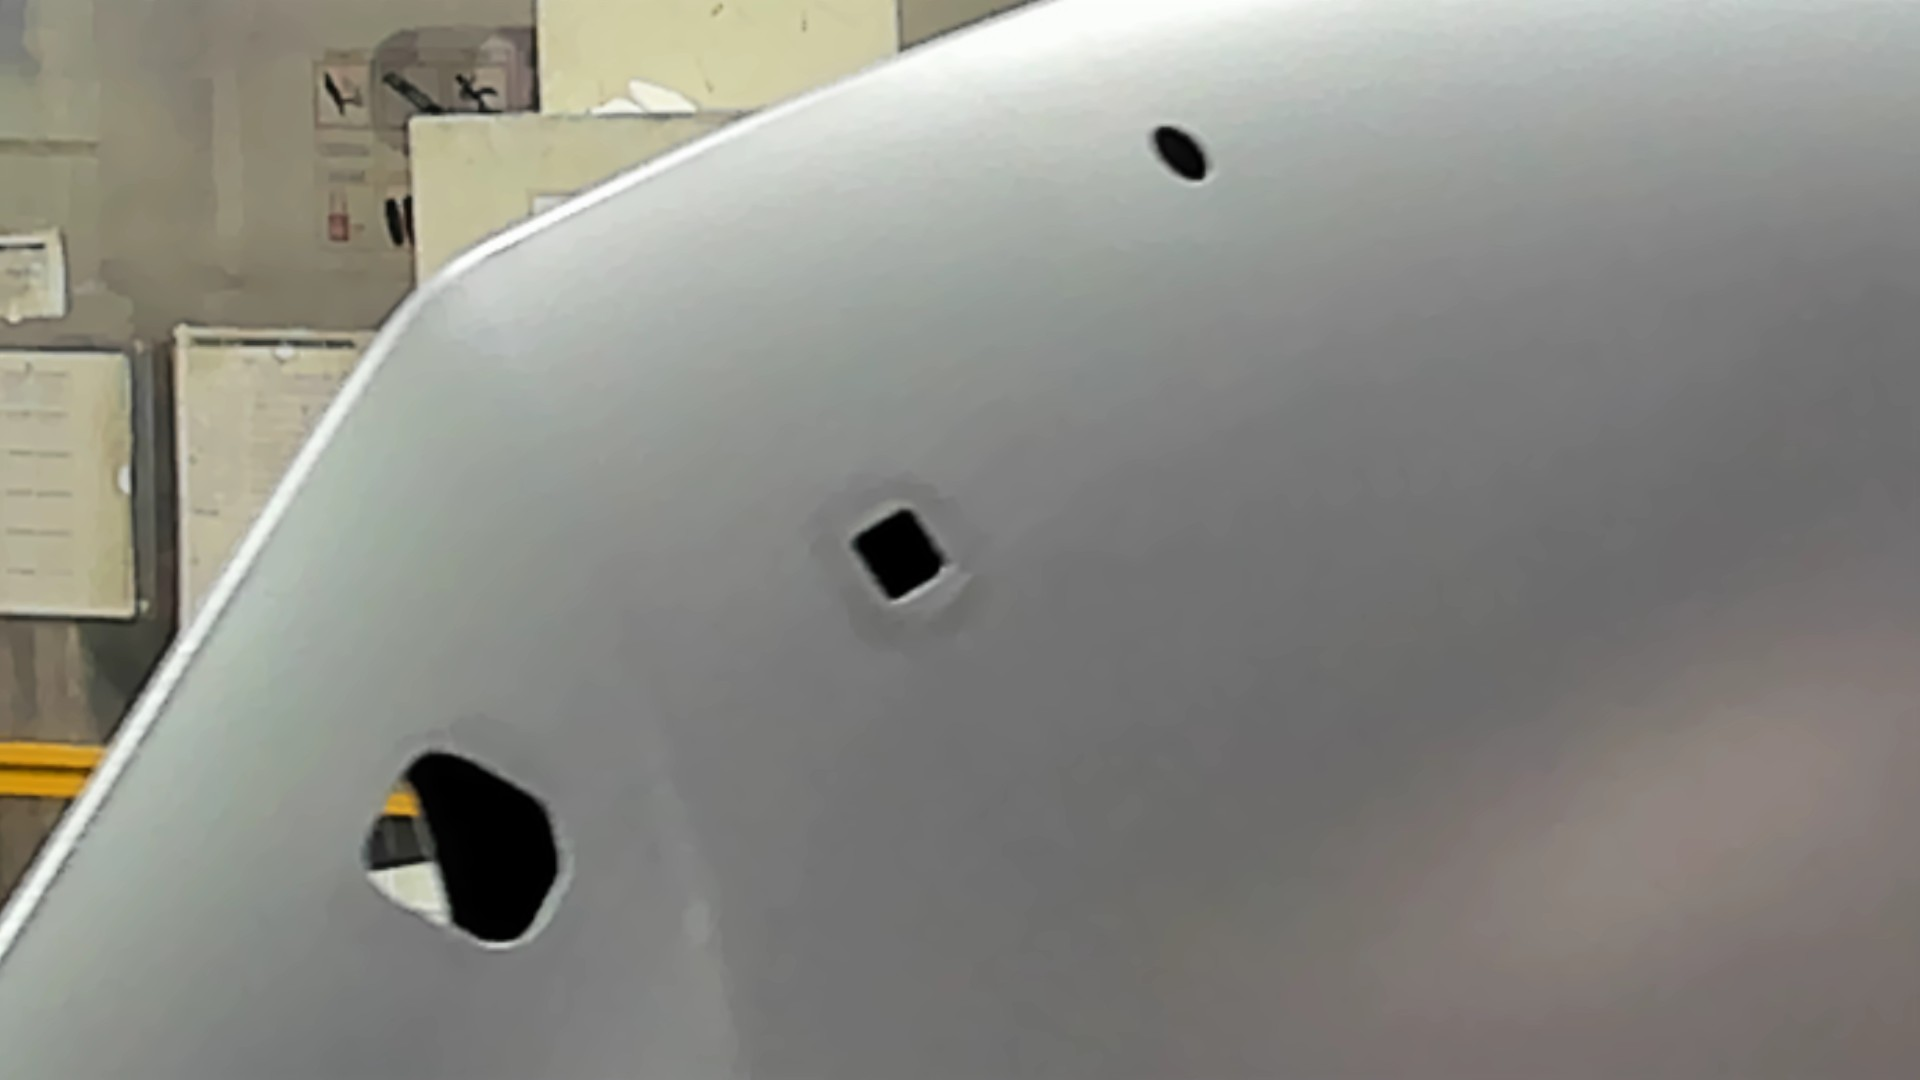chico: (1149, 123, 1215, 183)
grande: (349, 740, 574, 959)
mediano: (841, 495, 952, 611)
